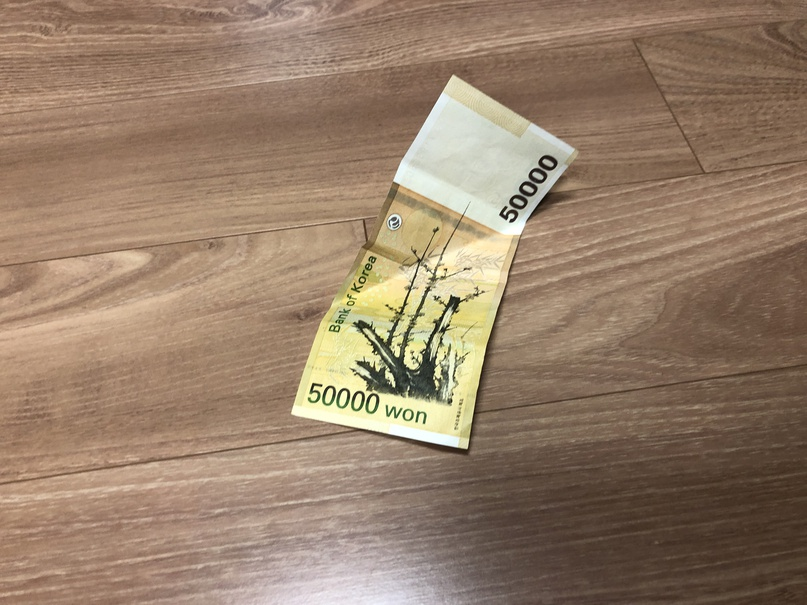50000won: (292, 74, 580, 450)
